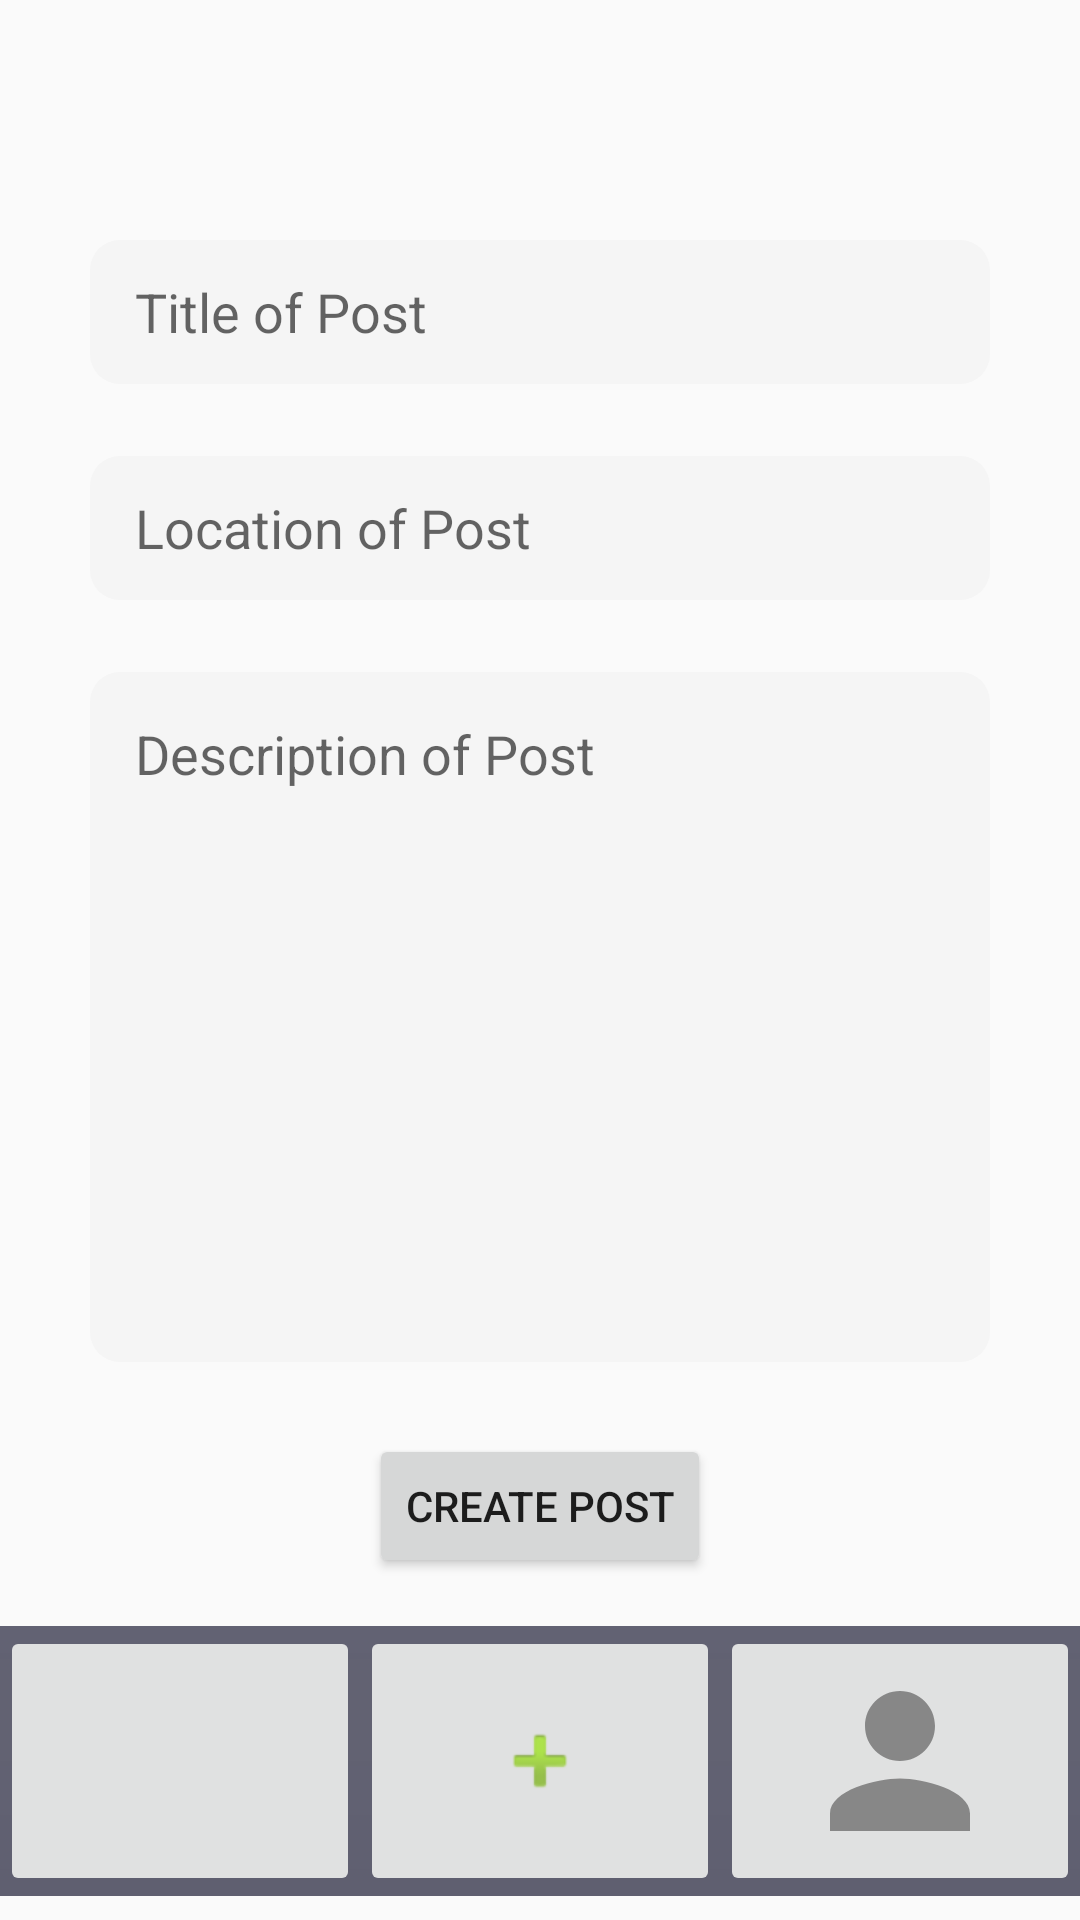

Point at icon controls on the screen. Image size 1080px x 1920px, points as [x,y].
add: [540,1761]
Profile: [900,1761]
